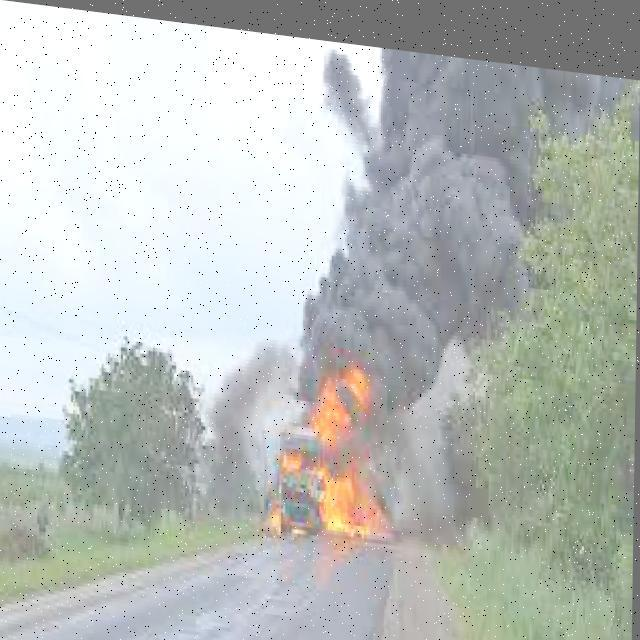Fire: (258, 346, 410, 544)
